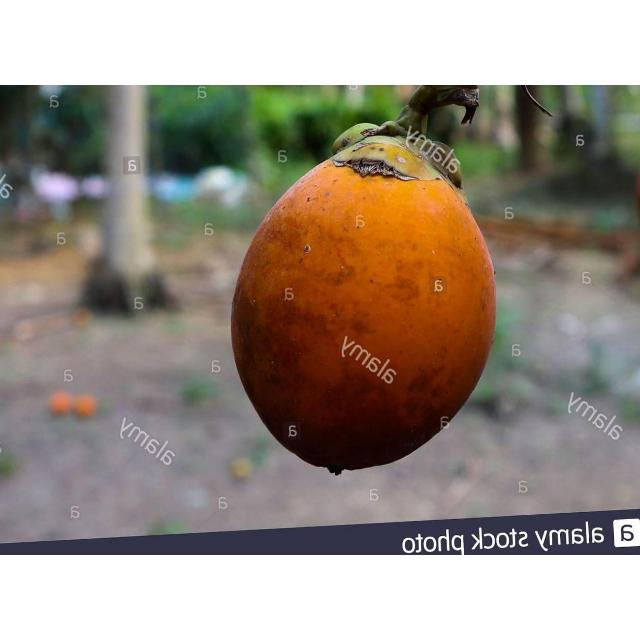good: (229, 133, 497, 476)
